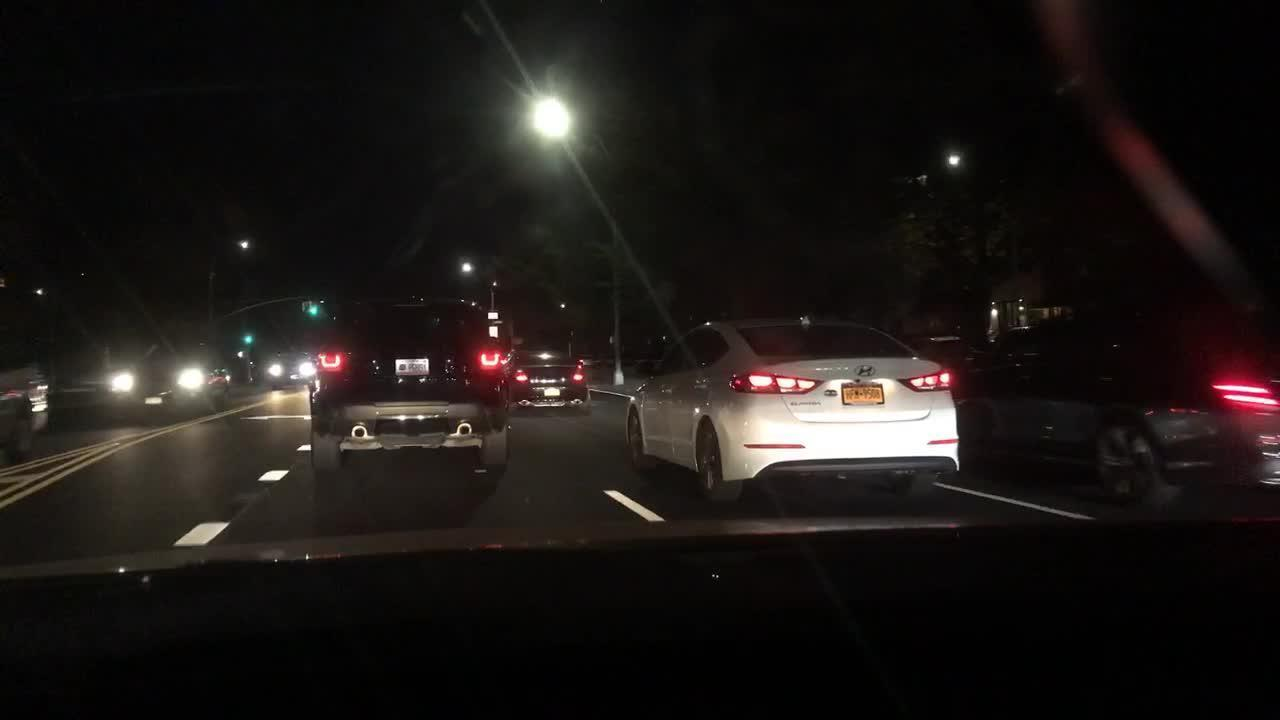Hyundai: (850, 360, 880, 381)
